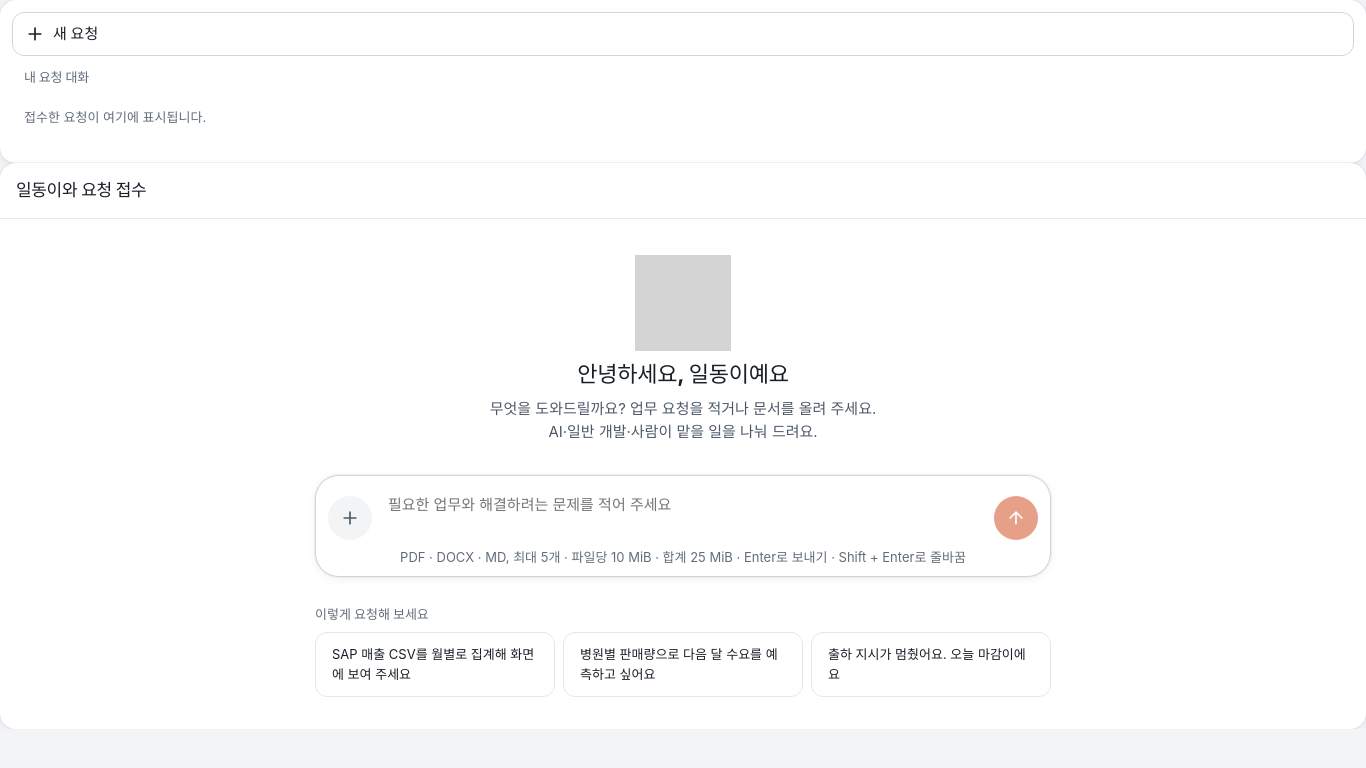
Test: optimistic request card › confirms the bubble with the server request id
The width and height of the screenshot is (1366, 768).
Type "챗봇을 도입하고 싶습니다" into the text box named "요청 내용".
click(683, 512); type("챗봇을 도입하고 싶습니다")  # box [380,484,986,540]
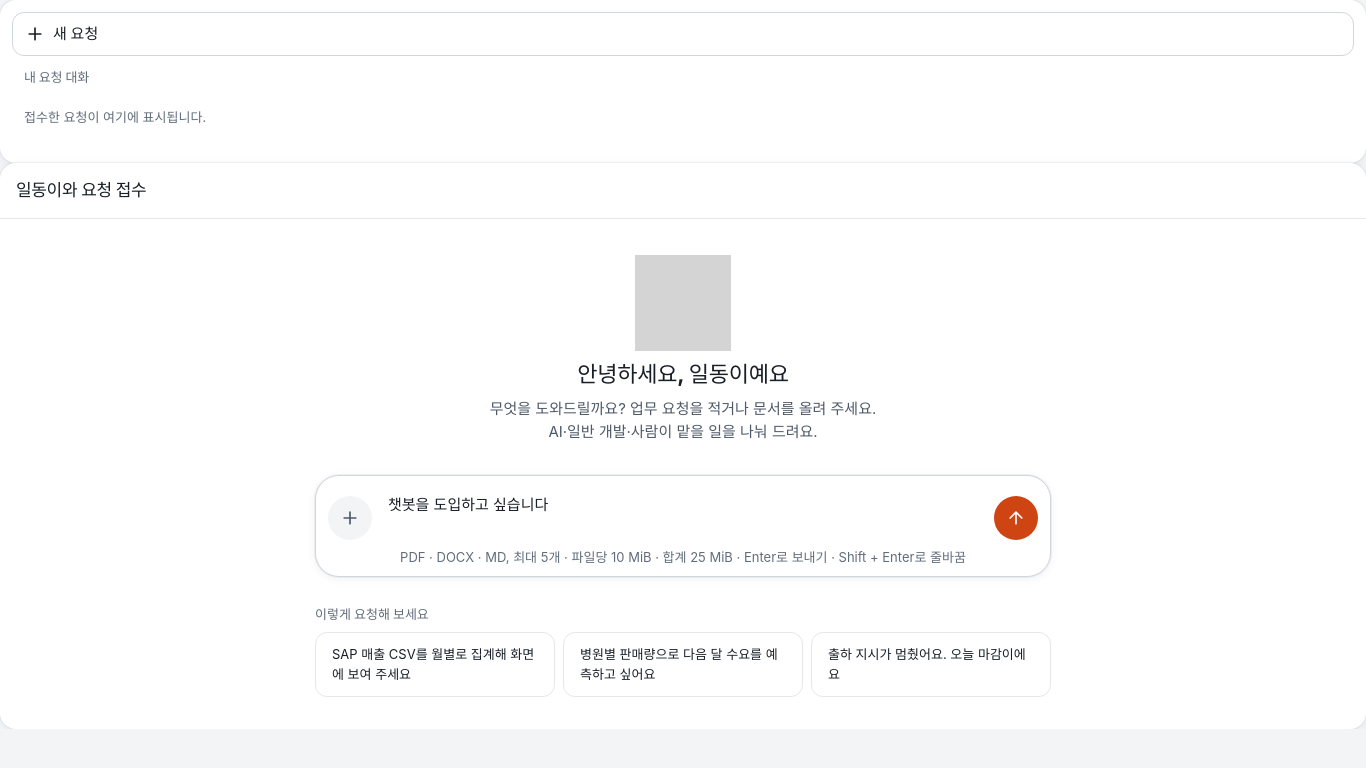
Click the button named "요청 보내기".
click(1016, 518)  # box [994,496,1038,540]
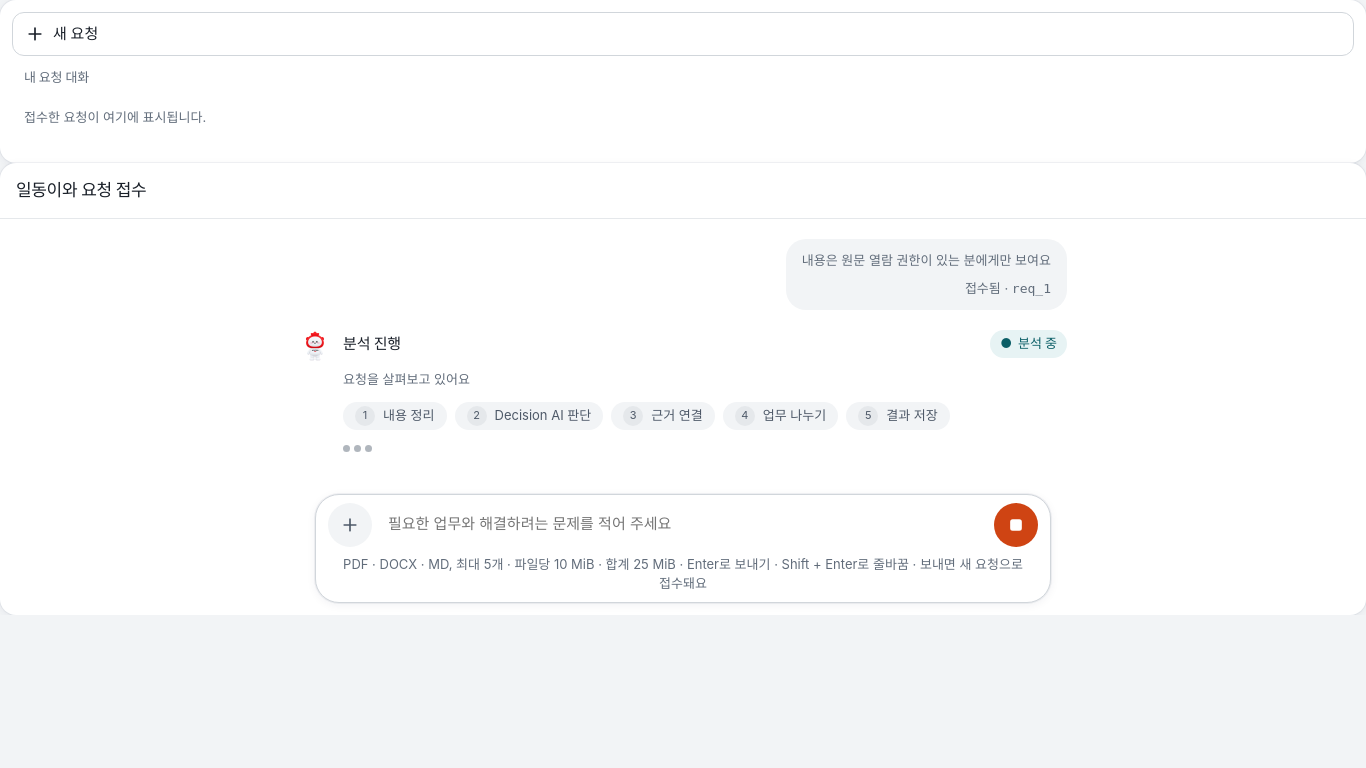
Expected: the element named "내가 보낸 요청" shows "req_1", [1012,280,1051,296]
Expected: the element named "내가 보낸 요청" shows "접수됨", [965,280,1001,296]
